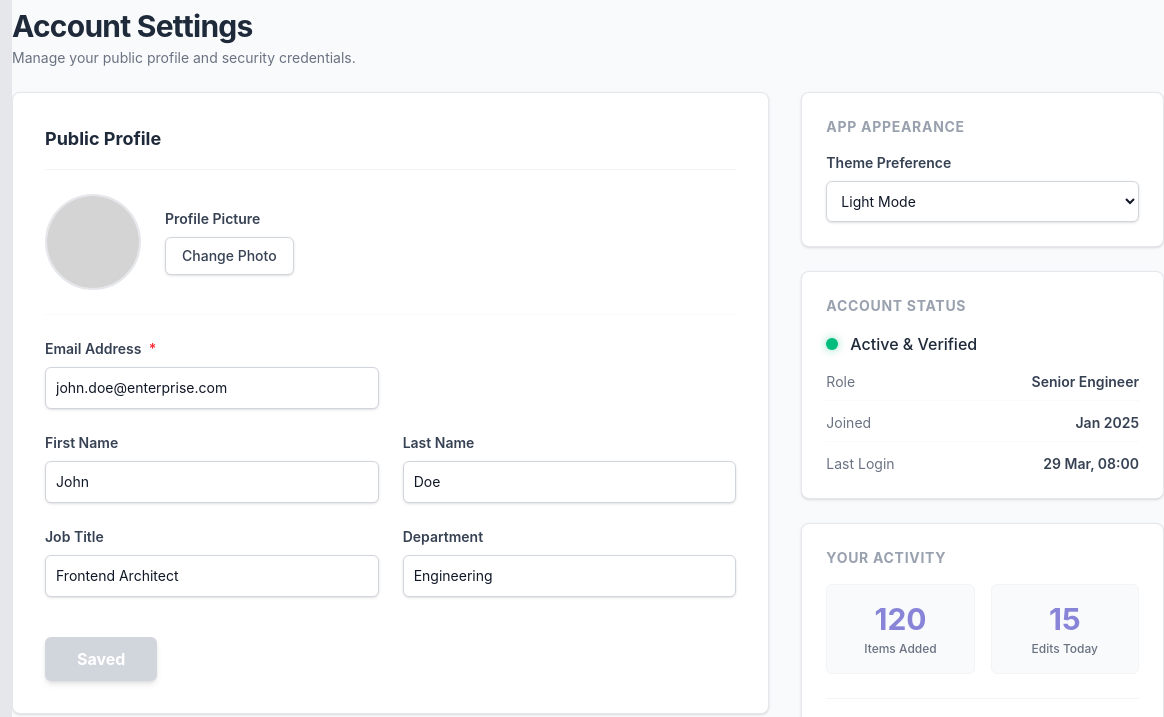
it: Profile Component › submits updated profile data correctly and shows success toast
Type "Johnny" into the field showing "John" below "First Name".
click(212, 482); type("Johnny")  # box [45,461,379,503]
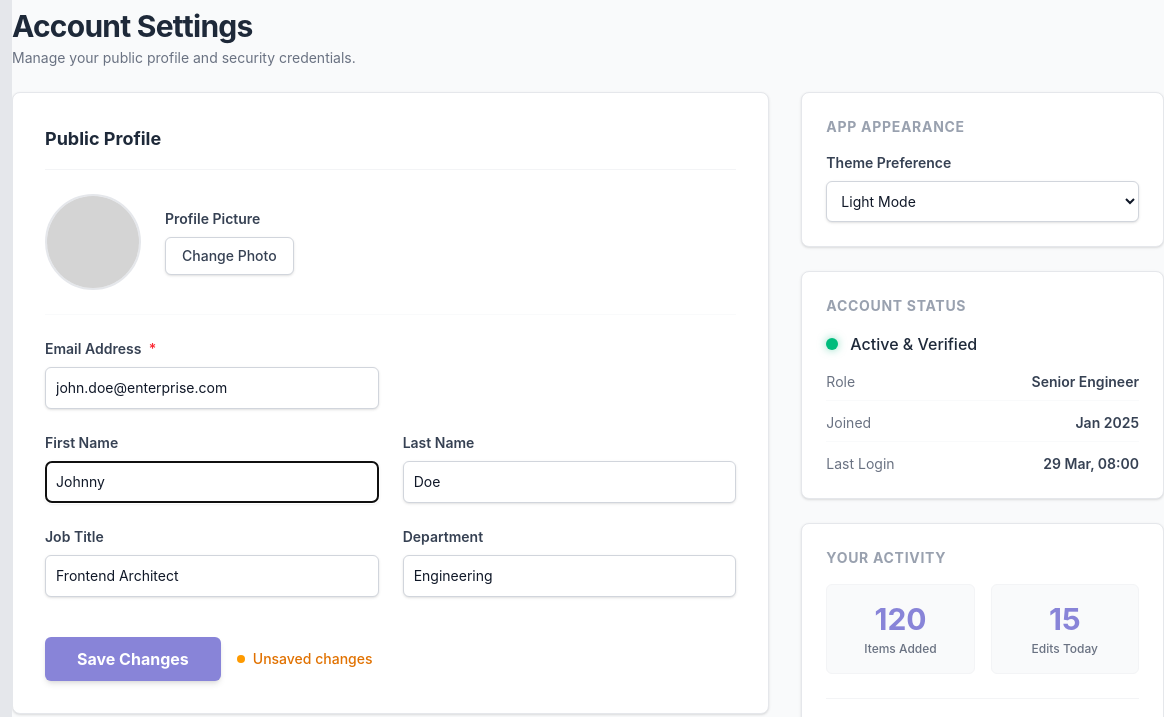
Click the button "Save Changes".
click(133, 659)  # box [45,637,221,681]
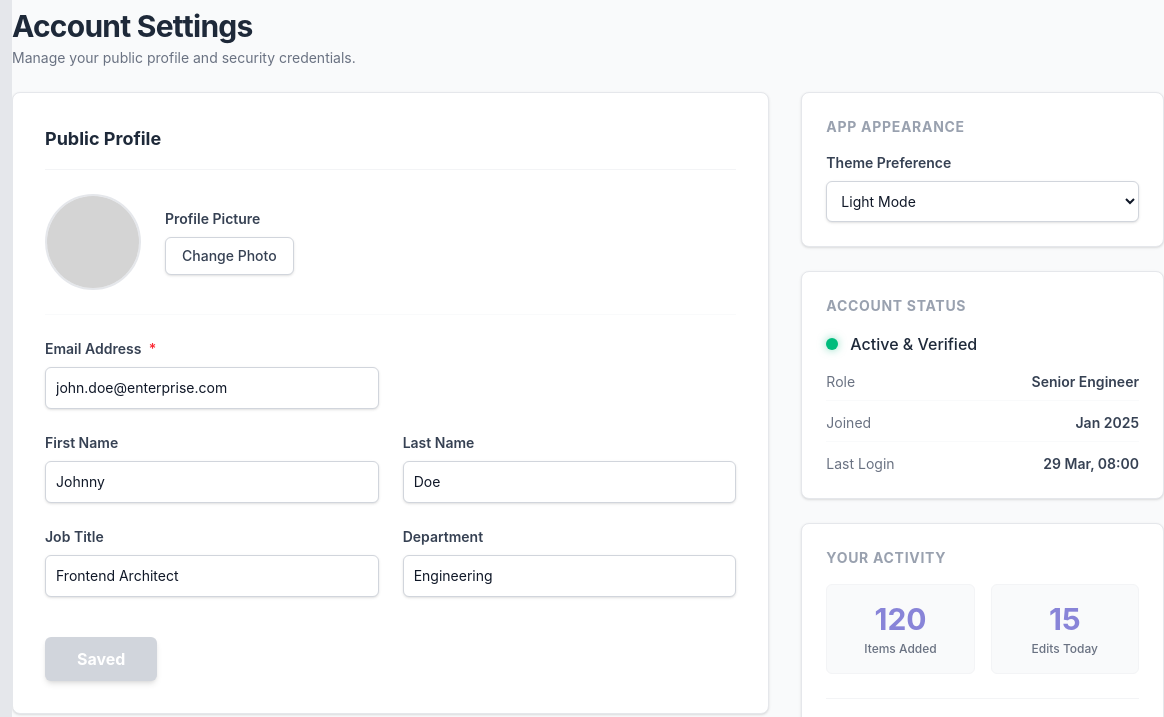
Expected: the button named "saving" is disabled, [45,637,157,681]
Expected: the button "Saved" is disabled, [45,637,157,681]
